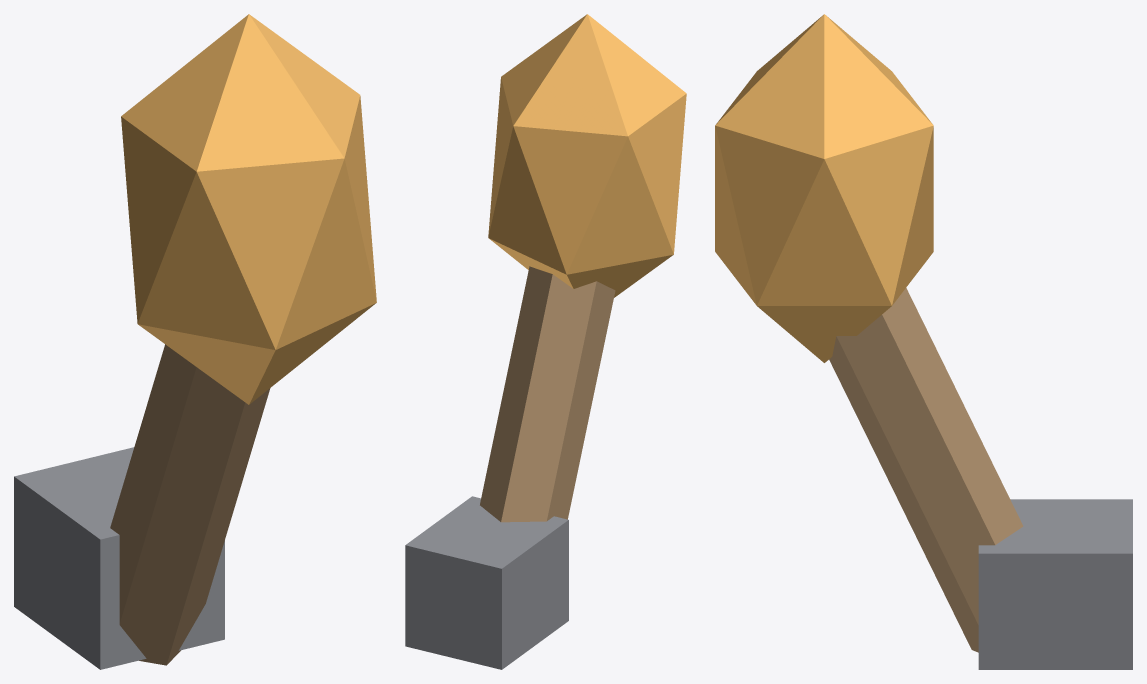
The model's file is torch_mounted.glb.
The picture shows the model from 3 angles, left to right: view 1: azimuth 30°, elevation 25°; view 2: azimuth 150°, elevation 25°; view 3: azimuth 270°, elevation 25°; orthographic projection. The views are drawn at different scales.
Parts seen in each view (by area): view 1: torch_mounted; view 2: torch_mounted; view 3: torch_mounted.
Part boxes in pixels (<box>): torch_mounted: <box>14,14,376,669</box>; torch_mounted: <box>405,14,686,669</box>; torch_mounted: <box>715,14,1132,669</box>.
Size of the model in its own units: 0.1789 by 0.5461 by 0.3251.
